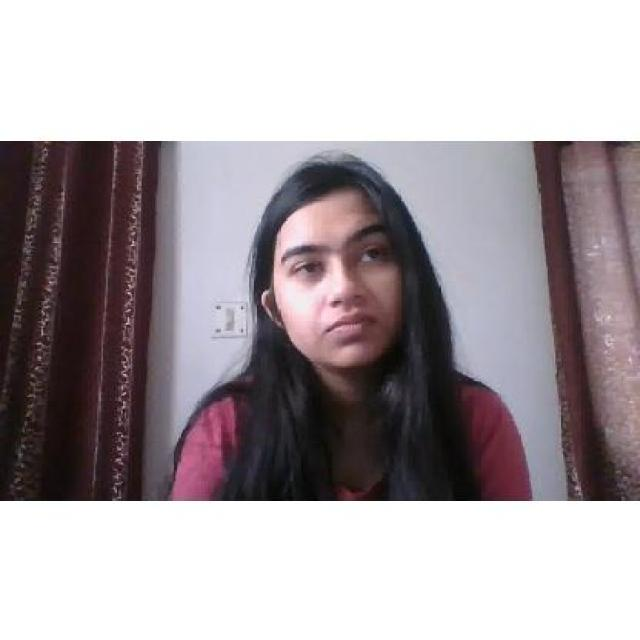attentif: (262, 168, 406, 364)
